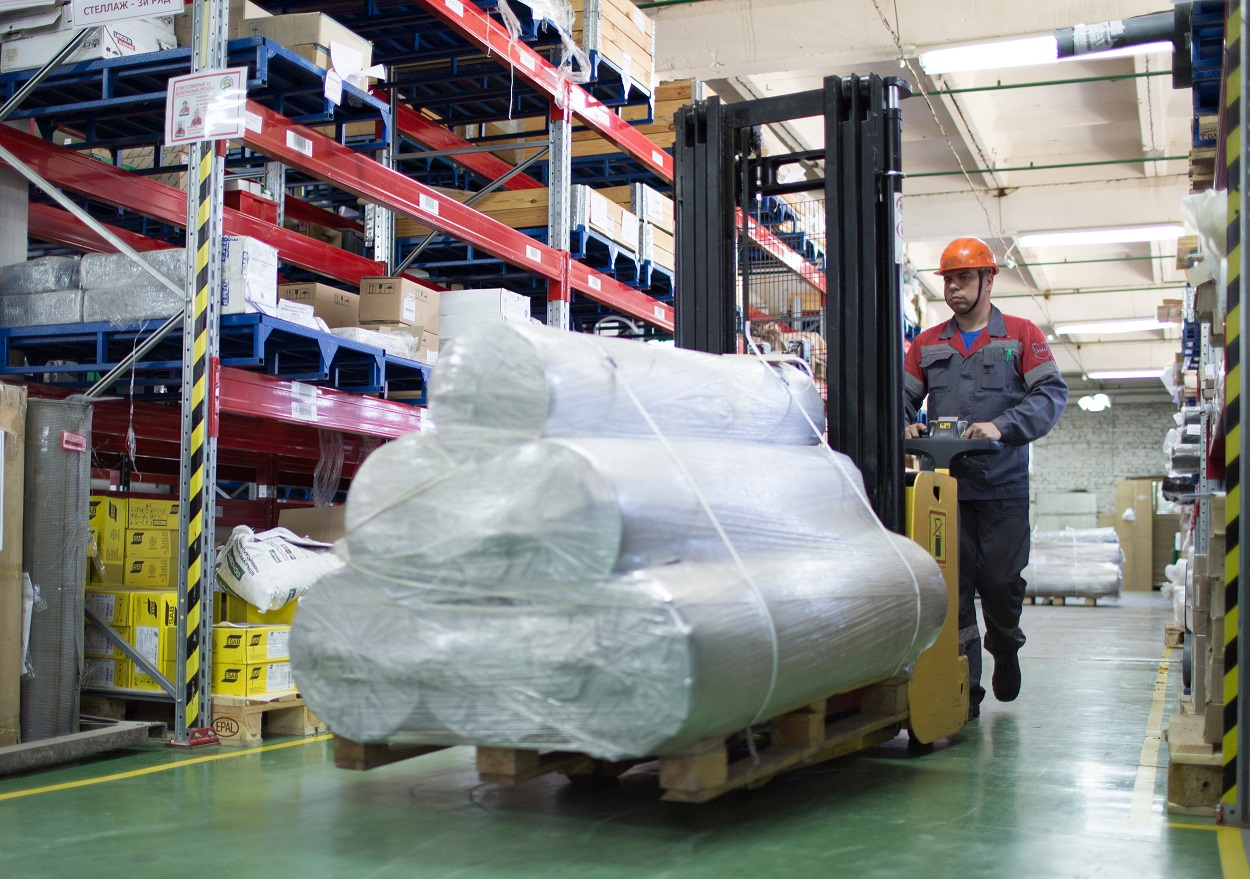person: (902, 237, 1068, 730)
